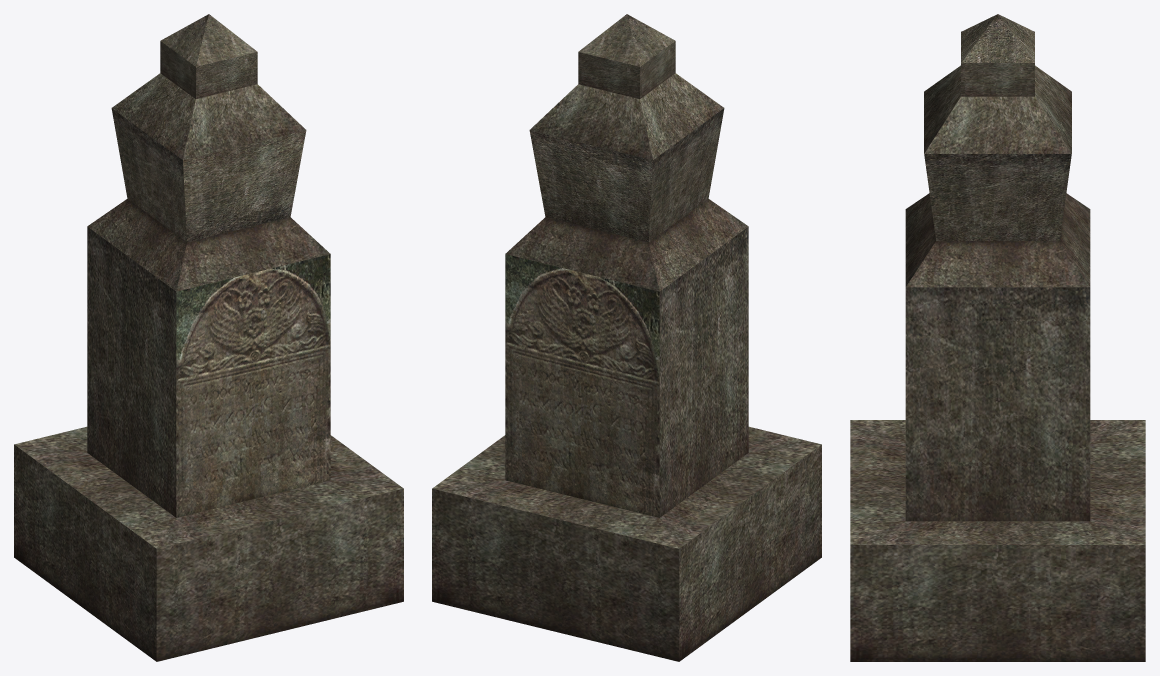
File: tombstone_lg_02.fbx
3 renders of one model, left to right at view 1: azimuth 30°, elevation 25°; view 2: azimuth 150°, elevation 25°; view 3: azimuth 270°, elevation 25°, orthographic. The views are drawn at different scales.
Parts seen in each view (by area): view 1: mesh_0, mesh_1; view 2: mesh_0, mesh_1; view 3: mesh_0.
Boxes of the visible parts, left/top/right/bottom form: mesh_0: left=14, top=14, right=403, bottom=661; mesh_1: left=176, top=254, right=330, bottom=517; mesh_0: left=432, top=14, right=821, bottom=661; mesh_1: left=505, top=254, right=659, bottom=517; mesh_0: left=850, top=14, right=1145, bottom=661.
Size of the model in its own units: 160 by 350 by 160.
2 materials, 2 textured.
